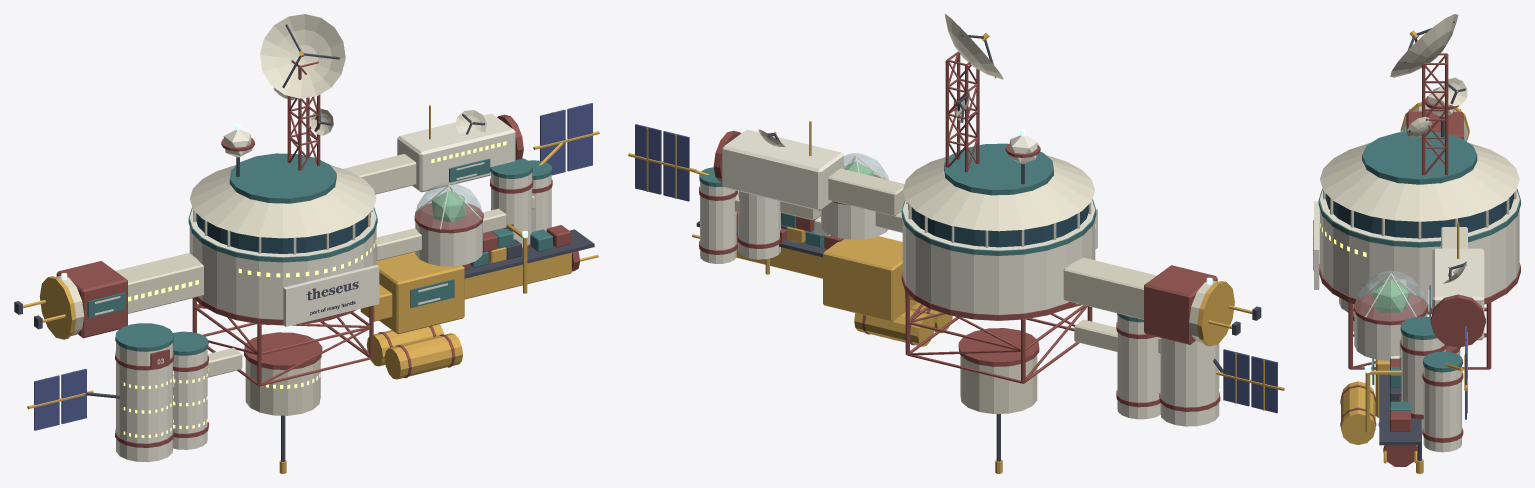
The model's file is port-of-many-hands.glb.
3 renders of one model, left to right at view 1: azimuth 30°, elevation 25°; view 2: azimuth 150°, elevation 25°; view 3: azimuth 270°, elevation 25°, orthographic. The views are drawn at different scales.
Parts seen in each view (by area): view 1: concourse_drum, concourse_roof, hab_03_a, scan_dish_face, research_lab, freight_hall, roof_deck, nameplate, arrivals_corridor, keel_module, hab_03_b, freight_spine (+27 smaller); view 2: concourse_drum, concourse_roof, research_lab, freight_hall, hab_03_a, roof_deck, arrivals_corridor, hab_03_b, arrivals_hall, keel_module, concourse_glazing, research_arm (+16 smaller); view 3: concourse_drum, concourse_roof, roof_deck, silo_b, greenhouse_dome, research_lab, concourse_glazing, lab_collar, silo_a, fuel_tank, scan_dish_face, greenhouse_base (+24 smaller).
Boxes of the visible parts, left/top/right/bottom form: concourse_drum: left=189, top=209, right=376, bottom=325; concourse_roof: left=190, top=165, right=376, bottom=238; hab_03_a: left=116, top=342, right=172, bottom=462; scan_dish_face: left=260, top=14, right=345, bottom=98; research_lab: left=397, top=113, right=515, bottom=192; freight_hall: left=376, top=252, right=464, bottom=334; roof_deck: left=229, top=153, right=336, bottom=203; nameplate: left=283, top=265, right=379, bottom=326; arrivals_corridor: left=115, top=253, right=203, bottom=313; keel_module: left=245, top=358, right=320, bottom=415; hab_03_b: left=173, top=349, right=207, bottom=449; freight_spine: left=360, top=252, right=571, bottom=321; concourse_drum: left=902, top=200, right=1095, bottom=320; concourse_roof: left=902, top=155, right=1094, bottom=231; research_lab: left=722, top=129, right=843, bottom=210; freight_hall: left=823, top=236, right=917, bottom=321; hab_03_a: left=1160, top=338, right=1219, bottom=426; roof_deck: left=944, top=143, right=1053, bottom=195; arrivals_corridor: left=1063, top=257, right=1156, bottom=319; hab_03_b: left=1117, top=315, right=1160, bottom=419; arrivals_hall: left=1144, top=265, right=1217, bottom=344; keel_module: left=960, top=355, right=1037, bottom=413; concourse_glazing: left=908, top=204, right=1088, bottom=247; research_arm: left=828, top=168, right=905, bottom=216; concourse_drum: left=1319, top=190, right=1519, bottom=314; concourse_roof: left=1320, top=143, right=1519, bottom=221; roof_deck: left=1362, top=131, right=1477, bottom=184; silo_b: left=1423, top=366, right=1461, bottom=452; greenhouse_dome: left=1355, top=270, right=1426, bottom=320; research_lab: left=1432, top=248, right=1484, bottom=340; concourse_glazing: left=1325, top=193, right=1513, bottom=238; lab_collar: left=1430, top=294, right=1485, bottom=347; silo_a: left=1401, top=332, right=1445, bottom=429; fuel_tank: left=1341, top=381, right=1375, bottom=444; scan_dish_face: left=1390, top=14, right=1458, bottom=77; greenhouse_base: left=1354, top=311, right=1427, bottom=360.
Bounding box in the file's own units: 19.38 × 13.55 × 5.41.
